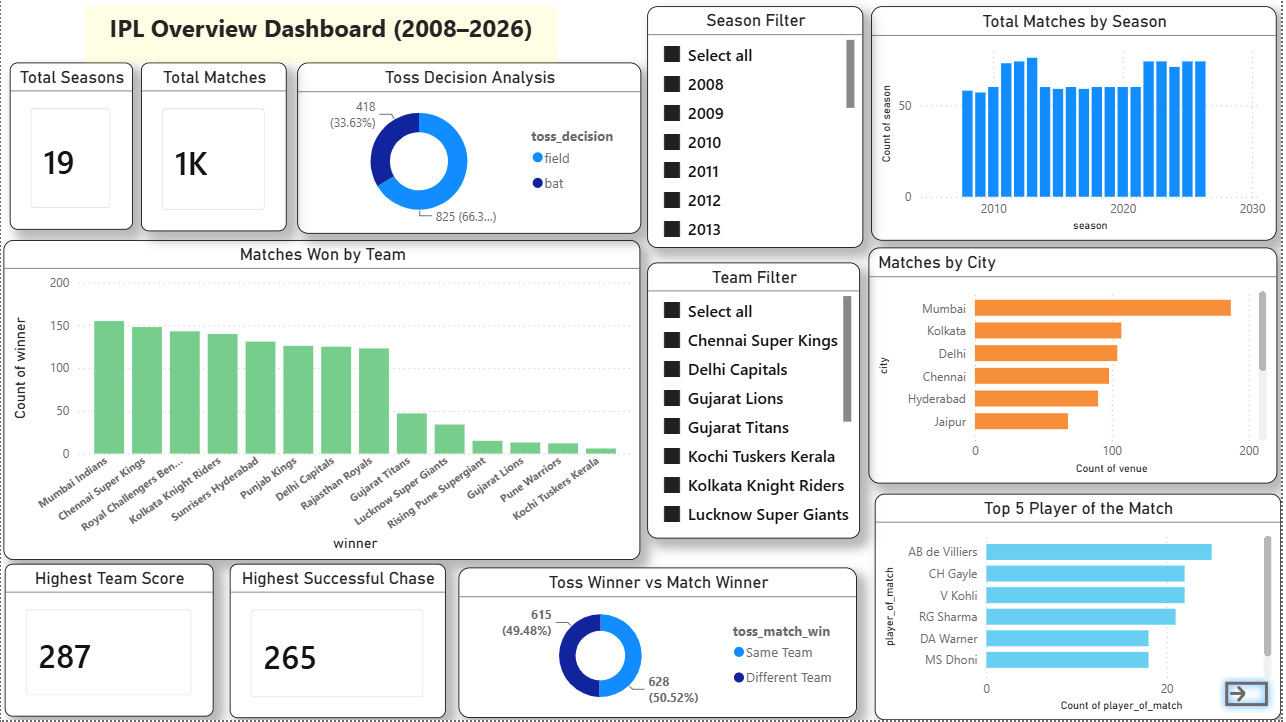

The page's visual inventory and layout, read from the dashboard file:
{"tool":"powerbi","page":{"name":"IPL Overview","canvas":[1280,720],"ordinal":0},"visuals":[{"type":"cardVisual","title":"Total Seasons","fields":{"Data":["Count(IPL2008_2026.season)"]},"box":[8.6,62.9,122.9,167.1],"z":0},{"type":"clusteredColumnChart","title":"Matches Won by Team","fields":{"Category":["IPL2008_2026.winner"],"Y":["CountNonNull(IPL2008_2026.winner)"]},"box":[2.9,240,637.1,320],"z":1000},{"type":"donutChart","title":"Toss Decision Analysis","fields":{"Category":["IPL2008_2026.toss_decision"],"Y":["CountNonNull(IPL2008_2026.toss_decision)"]},"box":[295.7,62.9,344.3,171.4],"z":2000},{"type":"columnChart","title":"Total Matches by Season","fields":{"Category":["IPL2008_2026.season"],"Y":["CountNonNull(IPL2008_2026.season)"]},"box":[870,5.7,405.7,234.3],"z":3000},{"type":"barChart","title":"Matches by City","fields":{"Y":["CountNonNull(IPL2008_2026.venue)"],"Category":["IPL2008_2026.city"]},"box":[867.1,247.1,408.6,235.7],"z":5000},{"type":"cardVisual","title":"Highest Team Score","fields":{"Data":["Max(IPL2008_2026.team1_runs)"]},"box":[4.3,564.3,208.6,152.9],"z":6000},{"type":"cardVisual","title":"Highest Successful Chase","fields":{"Data":["Max(IPL2008_2026.team2_runs)"]},"box":[228.6,564.3,215.7,154.3],"z":7000},{"type":"barChart","title":"Top 5 Player of the Match","fields":{"Category":["IPL2008_2026.player_of_match"],"Y":["CountNonNull(IPL2008_2026.player_of_match)"]},"box":[874.1,494,406.2,226.4],"z":8000},{"type":"donutChart","title":"Toss Winner vs Match Winner","fields":{"Category":["IPL2008_2026.toss_match_win"],"Y":["CountNonNull(IPL2008_2026.toss_match_win)"]},"box":[457.1,567.1,398.6,150],"z":9000},{"type":"slicer","title":"Season Filter","fields":{"Values":["IPL2008_2026.season"]},"box":[645.7,5.7,215.7,241.4],"z":10000},{"type":"slicer","title":"Team Filter","fields":{"Values":["IPL2008_2026.team1"]},"box":[645.7,262.9,212.9,275.7],"z":11000},{"type":"cardVisual","title":"Total Matches","fields":{"Data":["IPL2008_2026.Total_matches"]},"box":[140,62.9,145.7,168.6],"z":12000},{"type":"actionButton","box":[1216.7,673.8,58.7,40.4],"z":13000},{"type":"textbox","box":[84.3,5.7,472.9,57.1],"z":13001}]}

Visuals, with their boxes in screenshot pixels (x1, y1, x2, y2), scaled from the page's 1280x720 canvas onto the 1286x722 screenshot:
"Total Seasons" cardVisual: crop(9, 63, 132, 231)
"Matches Won by Team" clusteredColumnChart: crop(3, 241, 643, 562)
"Toss Decision Analysis" donutChart: crop(297, 63, 643, 235)
"Total Matches by Season" columnChart: crop(874, 6, 1282, 241)
"Matches by City" barChart: crop(871, 248, 1282, 484)
"Highest Team Score" cardVisual: crop(4, 566, 214, 719)
"Highest Successful Chase" cardVisual: crop(230, 566, 446, 721)
"Top 5 Player of the Match" barChart: crop(878, 495, 1285, 721)
"Toss Winner vs Match Winner" donutChart: crop(459, 569, 860, 719)
"Season Filter" slicer: crop(649, 6, 865, 248)
"Team Filter" slicer: crop(649, 264, 863, 540)
"Total Matches" cardVisual: crop(141, 63, 287, 232)
actionButton: crop(1222, 676, 1281, 716)
textbox: crop(85, 6, 560, 63)
